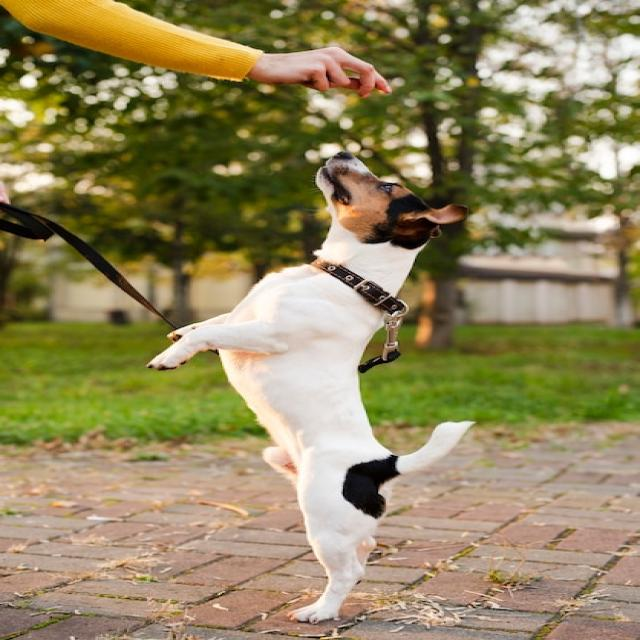Dog: (147, 150, 476, 624)
